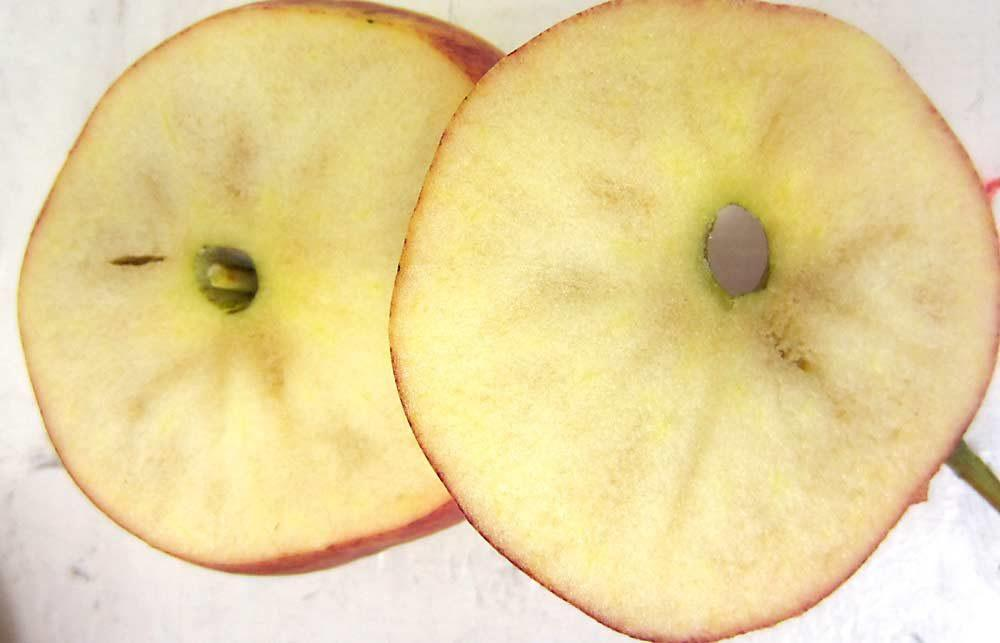apple: (385, 1, 1000, 641), (18, 1, 504, 576)
